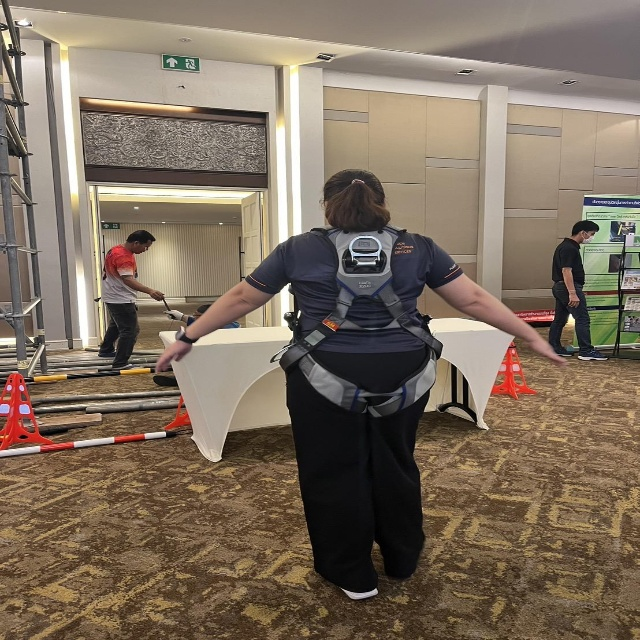Arnes_seguridad: (283, 221, 446, 428)
